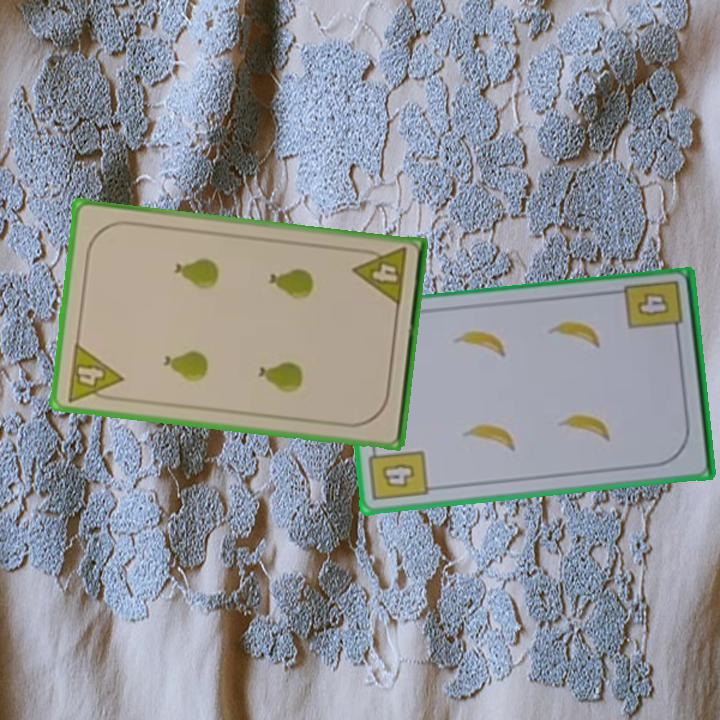4b: (621, 277, 686, 343), (366, 442, 431, 504)
4p: (63, 339, 126, 405), (350, 244, 410, 310)
